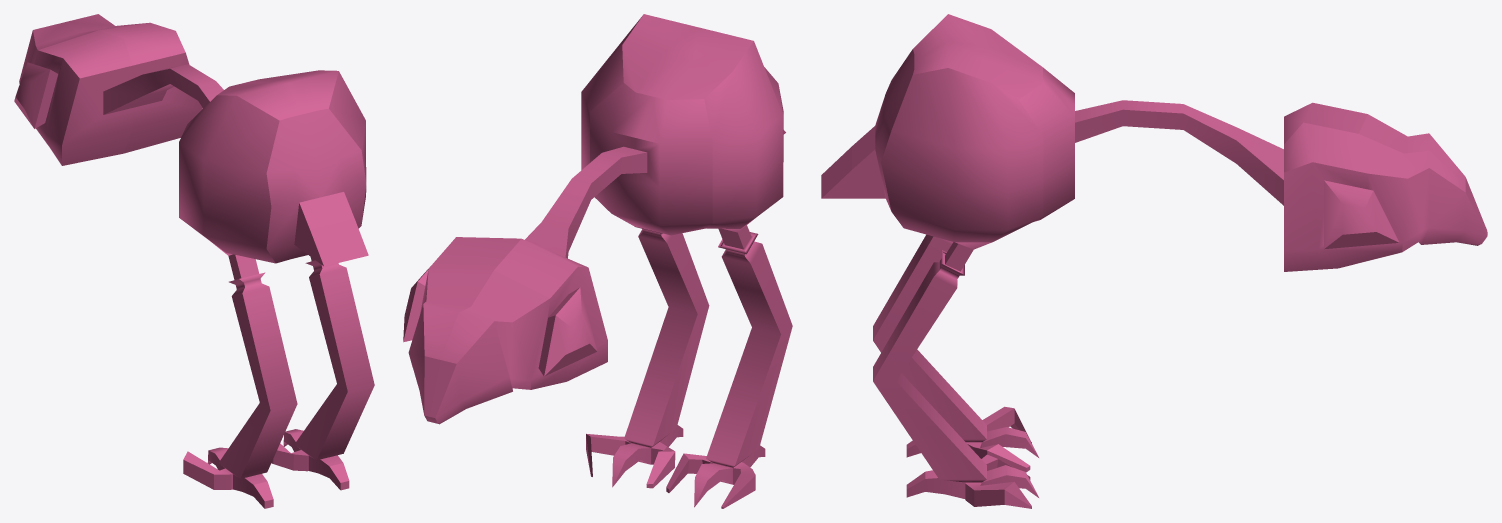
The model's file is jurkin.fbx.
3 renders of one model, left to right at view 1: azimuth 30°, elevation 25°; view 2: azimuth 150°, elevation 25°; view 3: azimuth 270°, elevation 25°, orthographic. The views are drawn at different scales.
Visible parts, largest first — view 1: pCube8; view 2: pCube8; view 3: pCube8.
Part boxes in pixels (left/top/right/bottom): pCube8: left=14, top=14, right=374, bottom=508; pCube8: left=403, top=14, right=792, bottom=508; pCube8: left=821, top=14, right=1487, bottom=508.
Bounding box in the file's own units: 3.71 × 8.81 × 12.16.
